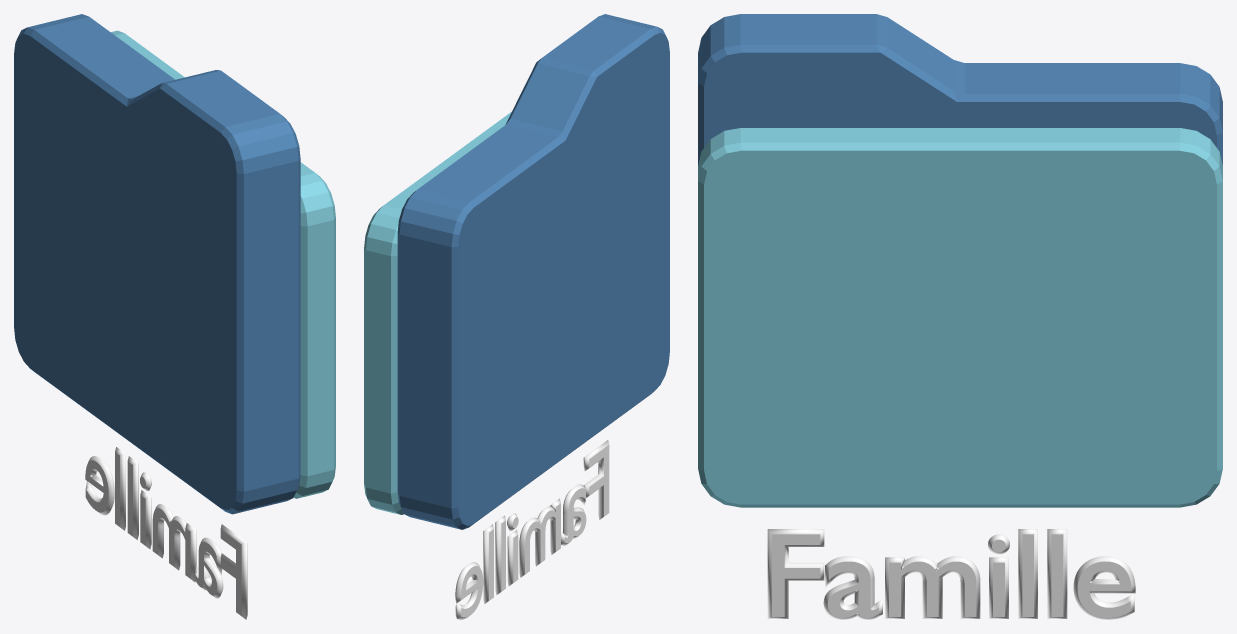
Rendered from Folder_Famille.fbx.
The picture shows the model from 3 angles, left to right: view 1: azimuth 30°, elevation 25°; view 2: azimuth 150°, elevation 25°; view 3: azimuth 270°, elevation 25°; orthographic projection. The views are drawn at different scales.
Visible parts, largest first — view 1: FolderIcon_2, Text; view 2: FolderIcon_2, Text; view 3: FolderIcon_2, Text.
Part boxes in pixels (box(x1,y1,x2,y2)): FolderIcon_2: box(14, 14, 335, 514); Text: box(85, 447, 247, 619); FolderIcon_2: box(364, 14, 669, 529); Text: box(455, 440, 609, 619); FolderIcon_2: box(698, 14, 1222, 507); Text: box(767, 529, 1135, 619).
Bounding box in the file's own units: 65.51 × 322 × 261.
